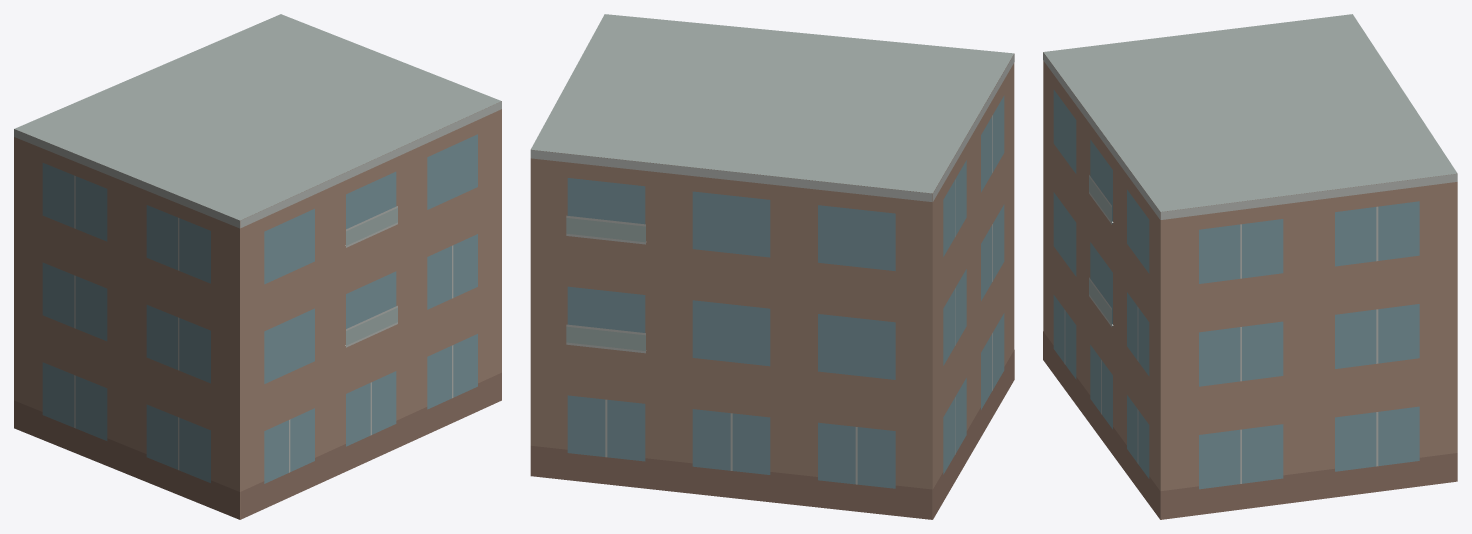
The model's file is survey-upis-32614754.glb.
The picture shows the model from 3 angles, left to right: view 1: azimuth 30°, elevation 25°; view 2: azimuth 150°, elevation 25°; view 3: azimuth 270°, elevation 25°; orthographic projection. The views are drawn at different scales.
Parts seen in each view (by area): view 1: survey-upis-32614754.tmp; view 2: survey-upis-32614754.tmp; view 3: survey-upis-32614754.tmp.
Boxes of the visible parts, <box> form: survey-upis-32614754.tmp: <box>14,14,501,519</box>; survey-upis-32614754.tmp: <box>530,14,1014,519</box>; survey-upis-32614754.tmp: <box>1043,14,1457,519</box>.
Bounding box in the file's own units: 12.63 × 9.15 × 11.17.
